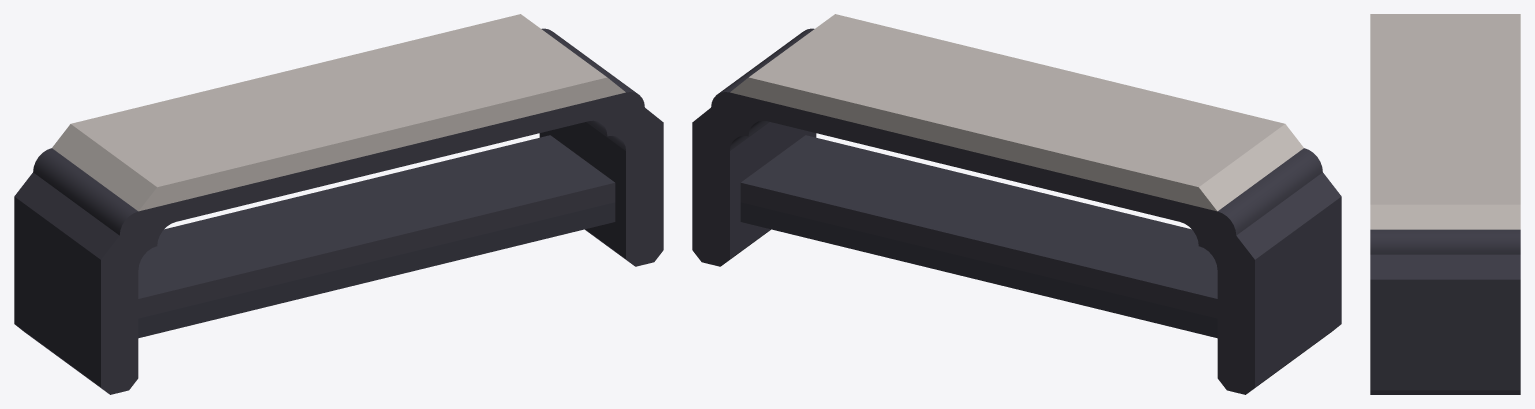
Rendered from large_desk.glb.
3 views of the same model, side by side, from view 1: azimuth 30°, elevation 25°; view 2: azimuth 150°, elevation 25°; view 3: azimuth 270°, elevation 25° (orthographic). The views are drawn at different scales.
Parts seen in each view (by area): view 1: generated(Clone); view 2: generated(Clone); view 3: generated(Clone).
Part boxes in pixels (box(x1,y1,x2,y2)): generated(Clone): box(14, 14, 663, 394); generated(Clone): box(692, 14, 1341, 394); generated(Clone): box(1370, 14, 1520, 394).
Size of the model in its own units: 22.5 by 7.5 by 6.
1 material, 1 textured.
